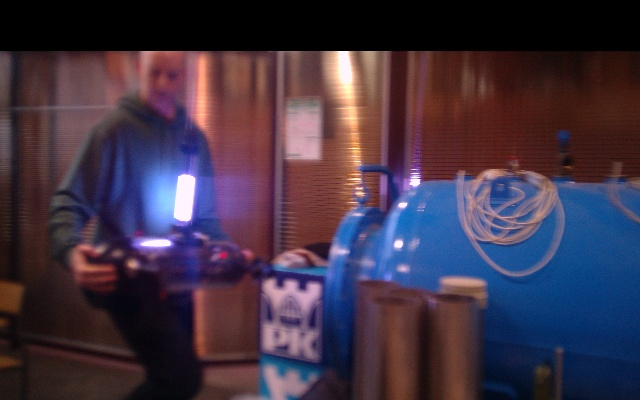white: (174, 173, 196, 225)
